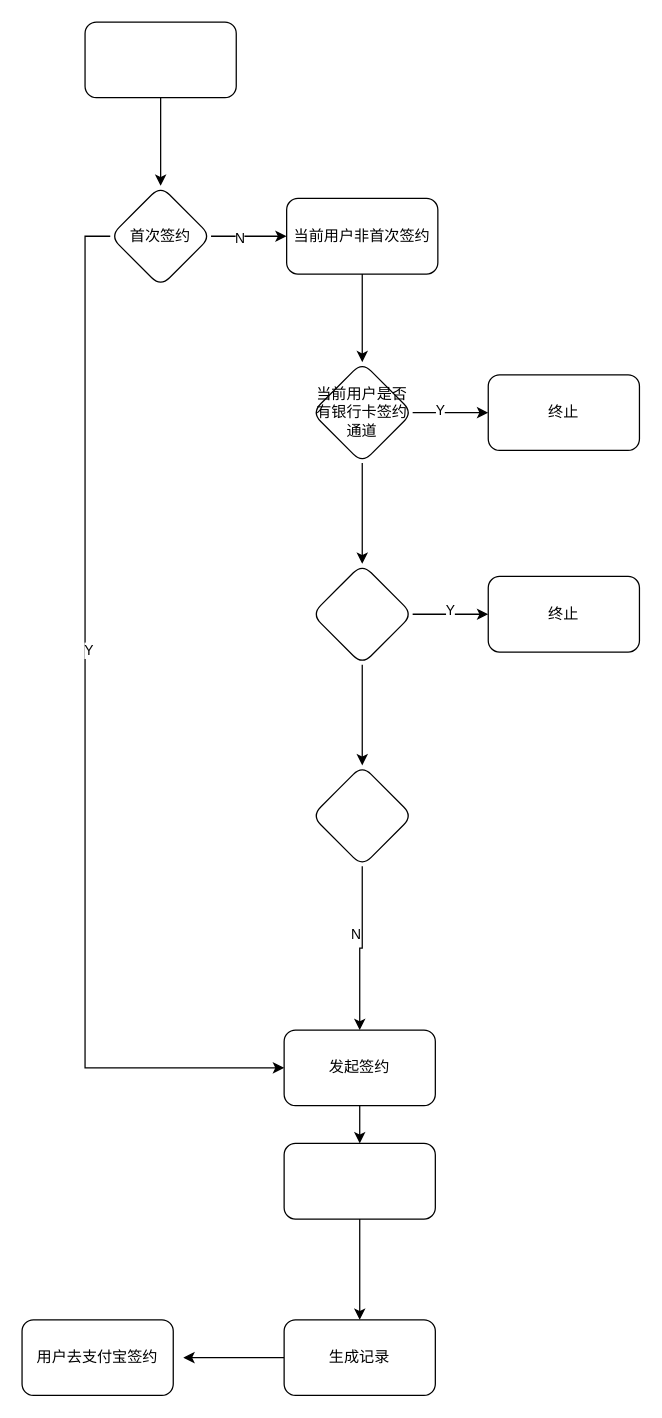
This 662x1418 diagram has some shape labels left out. Here are the shapes that lost their labels. From the top down, the box of each, then its label:
(84, 21, 236, 98): 会员签约
(311, 563, 413, 665): 最新一条签约记录是否签约中
(311, 764, 413, 866): 是否签约成功
(283, 1142, 435, 1219): 调用支付宝
